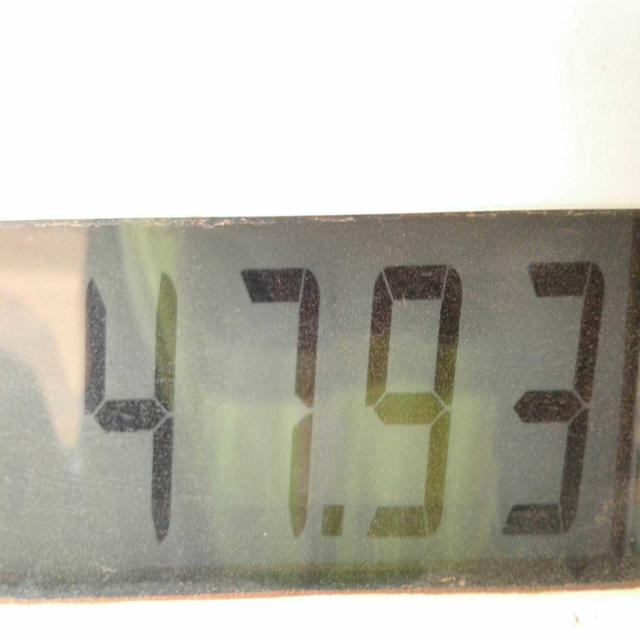.: (302, 484, 348, 574)
3: (486, 241, 610, 554)
4: (74, 269, 198, 579)
7: (222, 261, 322, 546)
9: (348, 255, 472, 572)
